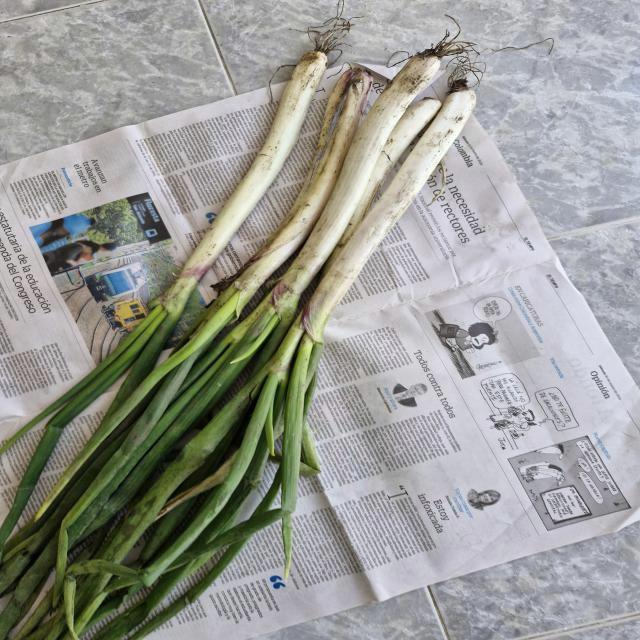green_onion: (0, 29, 468, 640)
